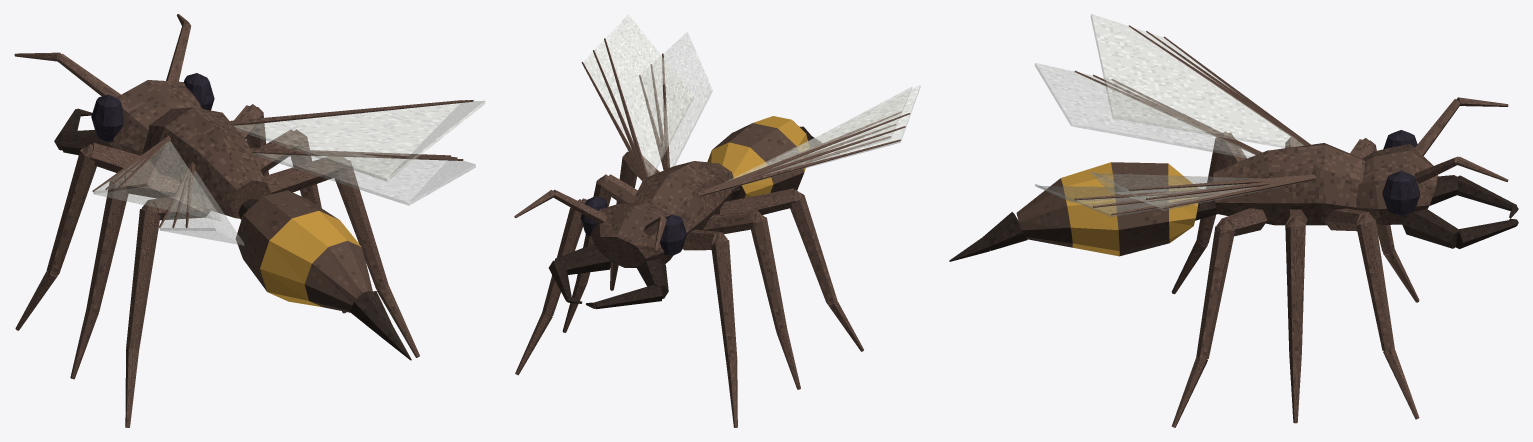
File: mon_wasp_guard.glb
3 renders of one model, left to right at view 1: azimuth 30°, elevation 25°; view 2: azimuth 150°, elevation 25°; view 3: azimuth 270°, elevation 25°, orthographic. The views are drawn at different scales.
Parts seen in each view (by area): view 1: closed_body, glazing; view 2: closed_body, glazing; view 3: closed_body, glazing.
Boxes of the visible parts, x1,y1,x2,y2 form: closed_body: (14, 14, 473, 427); glazing: (93, 100, 485, 245); closed_body: (514, 38, 910, 427); glazing: (583, 14, 920, 191); closed_body: (949, 25, 1518, 427); glazing: (1034, 14, 1307, 217).
Bounding box in the file's own units: 1.6 × 1.17 × 2.24.
Materials: 2 (2 with a texture image).
